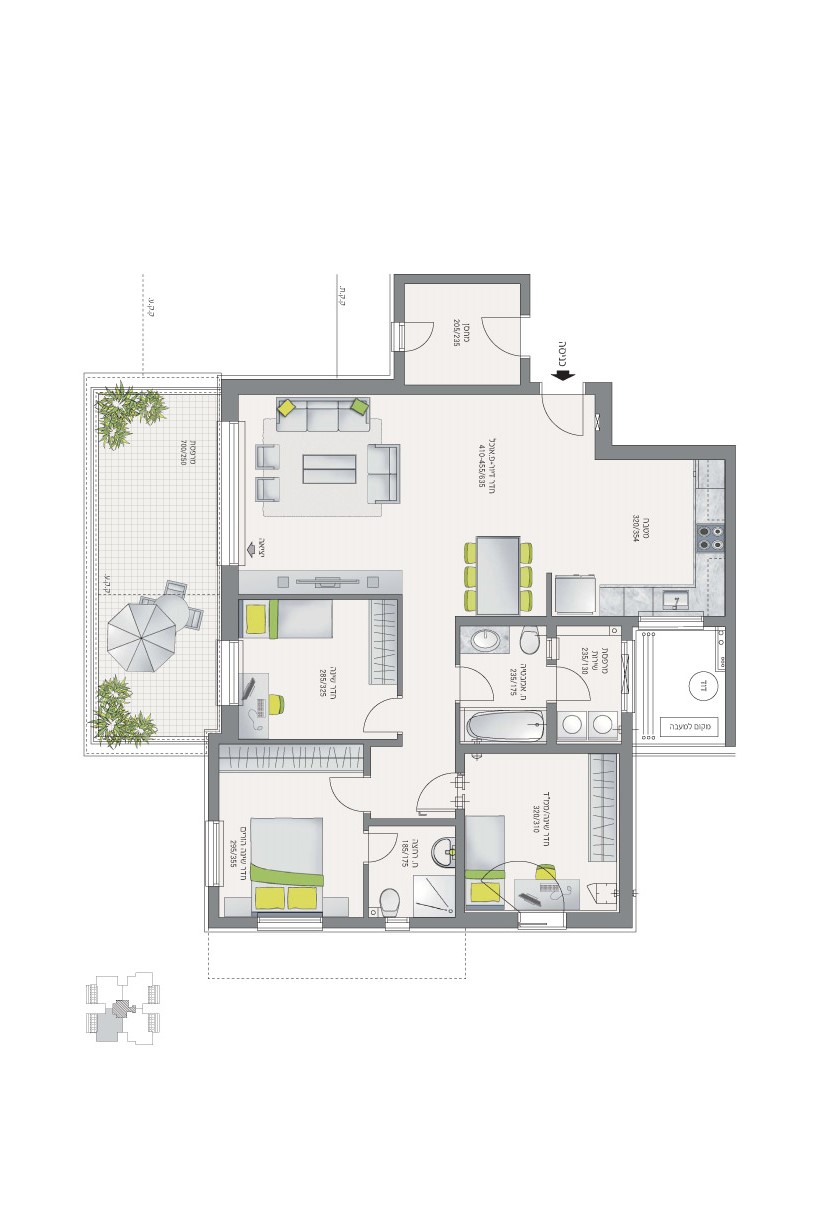door: (536, 395, 591, 446), (478, 311, 519, 364), (416, 769, 454, 814), (462, 664, 500, 704), (557, 662, 595, 702), (327, 772, 365, 812), (360, 696, 398, 736), (369, 828, 401, 866), (407, 316, 436, 356)
wall: (220, 422, 244, 568), (221, 379, 405, 393), (619, 743, 632, 927), (595, 445, 736, 461), (456, 744, 633, 754), (216, 639, 242, 705), (200, 819, 226, 885), (254, 913, 322, 931), (636, 615, 703, 632), (518, 912, 568, 931), (544, 637, 559, 662)
